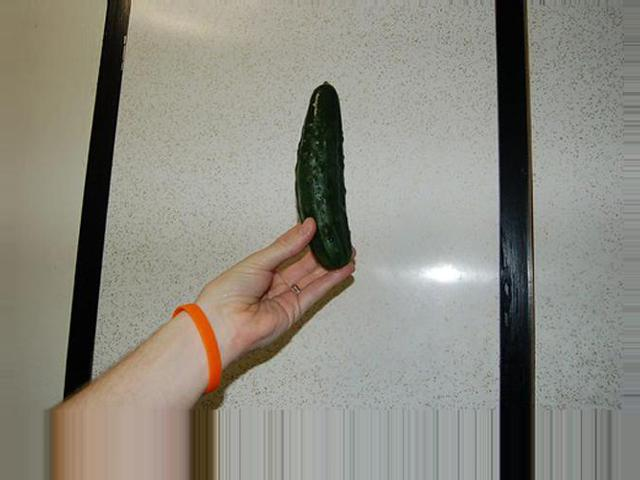cucumber: (297, 80, 352, 270)
